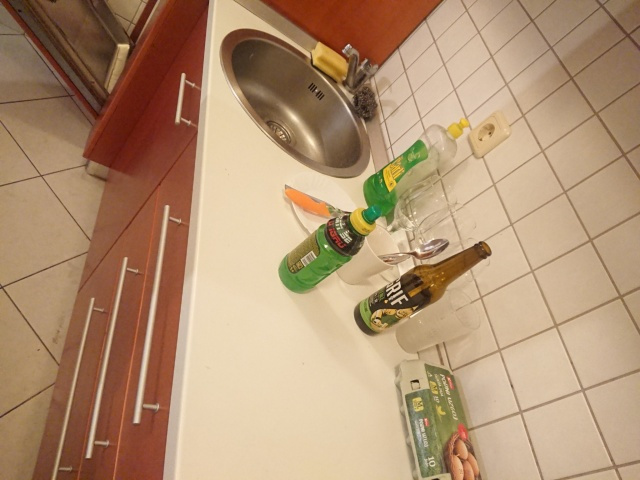Vindi Iso Sport Lemon-Grapefruit 500mL: (276, 204, 383, 296)
